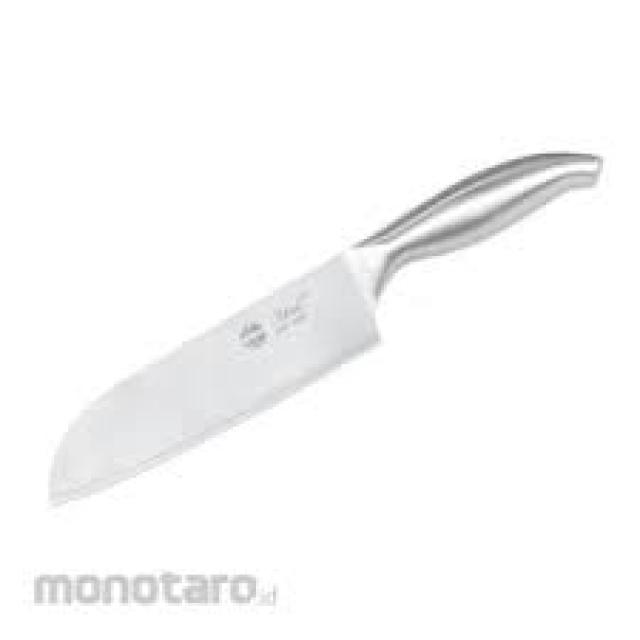Knife: (48, 151, 600, 506)
